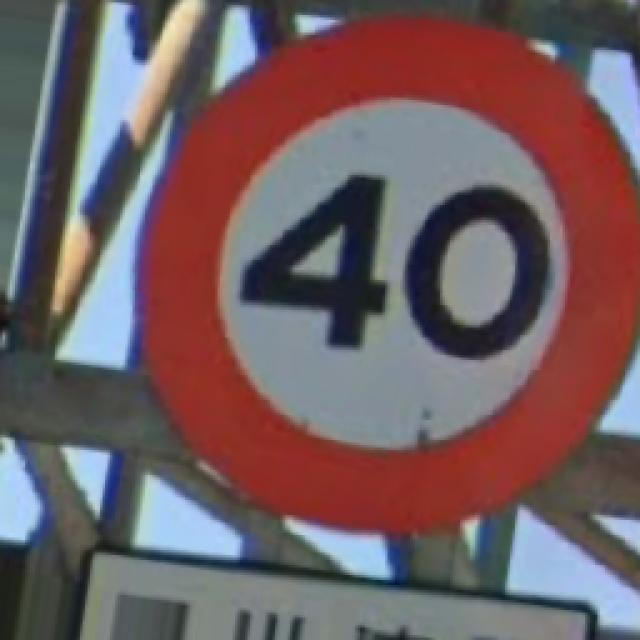Speed Limit -40-: (145, 15, 638, 530)
